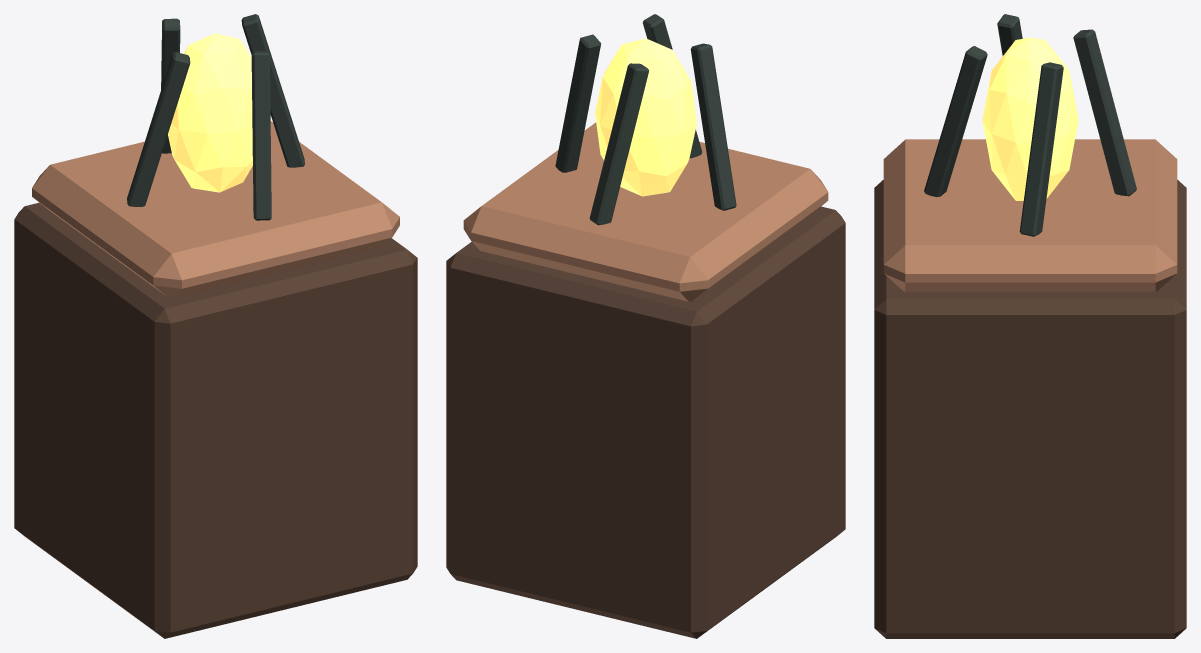
Rendered from ember-small-38963249.glb.
3 views of the same model, side by side, from view 1: azimuth 30°, elevation 25°; view 2: azimuth 150°, elevation 25°; view 3: azimuth 270°, elevation 25° (orthographic). The views are drawn at different scales.
Parts seen in each view (by area): view 1: Ember_Small; view 2: Ember_Small; view 3: Ember_Small.
Boxes of the visible parts, box(x1,y1,x2,y2) form: Ember_Small: box(14, 14, 417, 638); Ember_Small: box(446, 14, 845, 638); Ember_Small: box(874, 14, 1186, 638).
Bounding box in the file's own units: 0.65 × 1.24 × 0.65.
